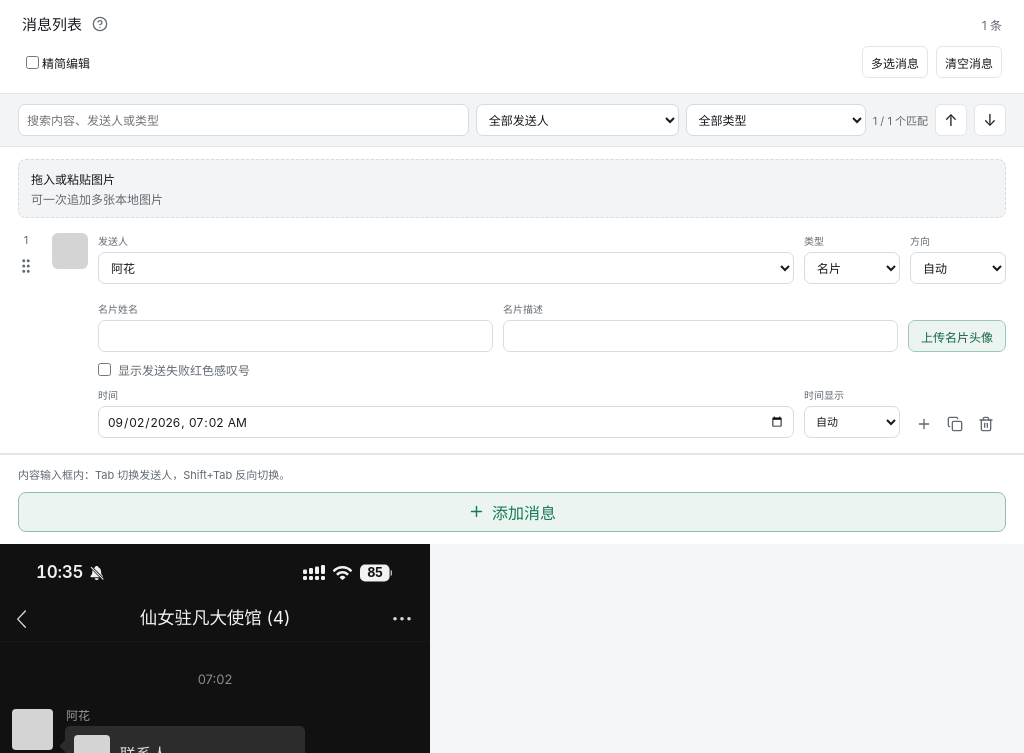
edits contact payload and renders it
Type "测试内容" into the field labelled "名片姓名" at (296, 336), box [98,320,493,352]
(page scrolled)
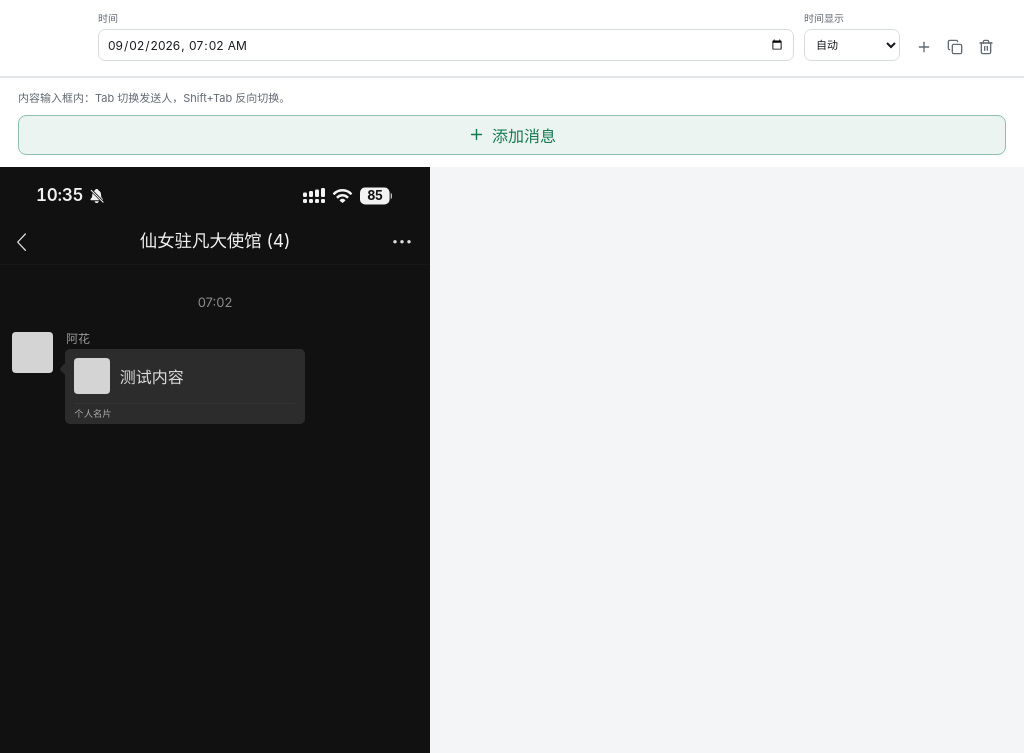
Result: the text "测试内容" is shown at [120,367,184,387]
